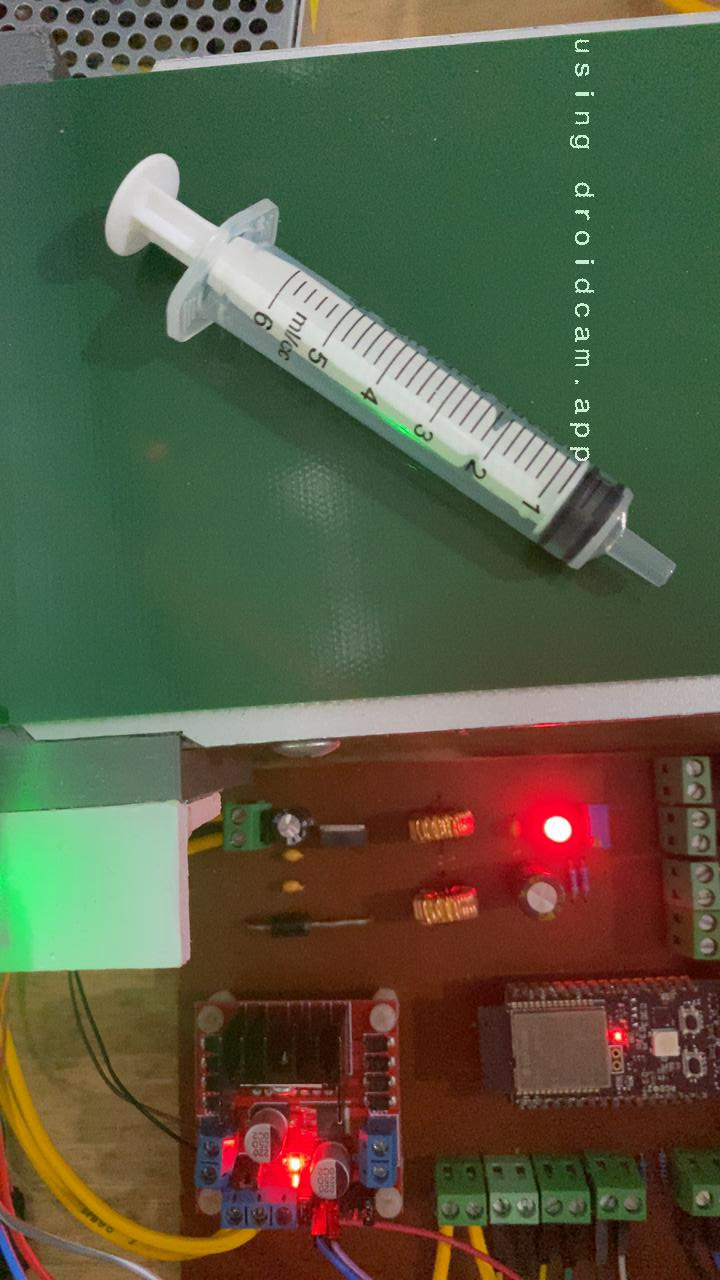syringe: (97, 146, 683, 595)
